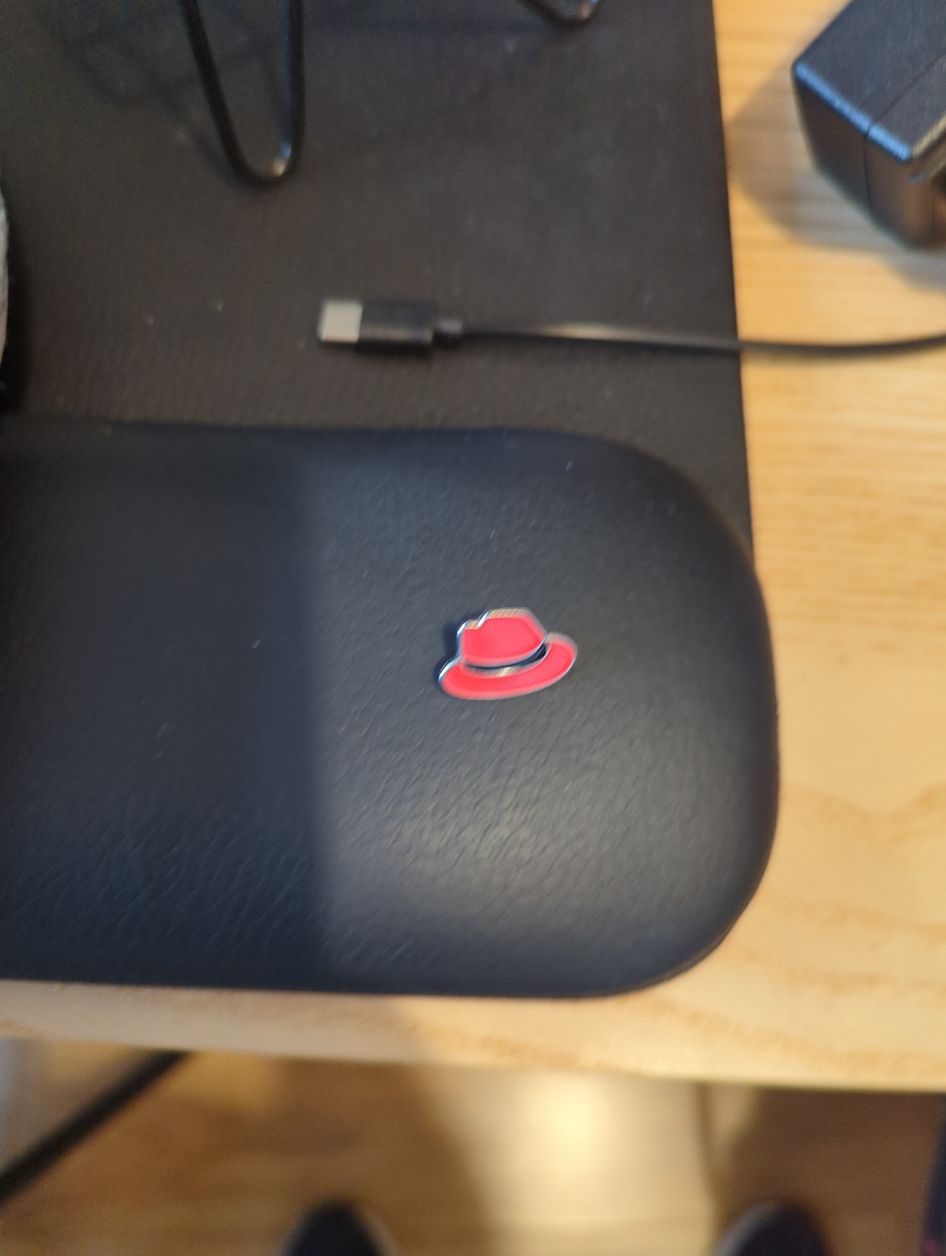Red-Hat: (385, 561, 628, 785)
